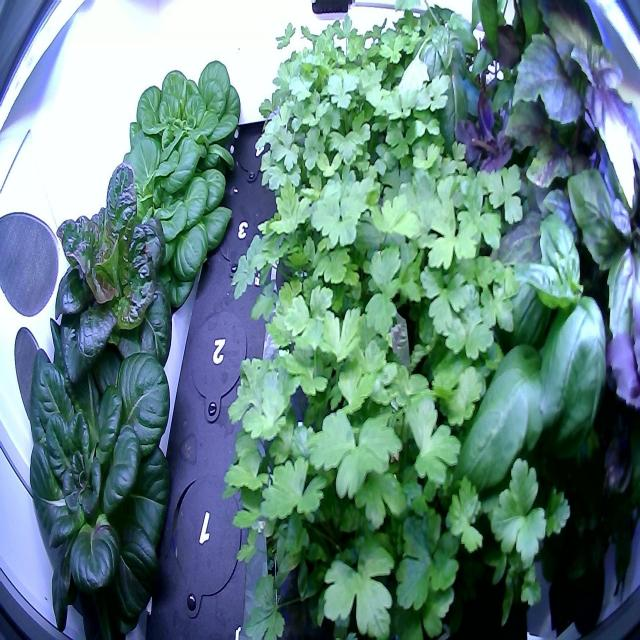Ready: (20, 317, 182, 640), (42, 158, 176, 423), (88, 114, 237, 308), (116, 46, 247, 184)
empty_pod: (168, 463, 250, 611), (184, 303, 250, 429), (205, 183, 269, 283), (232, 112, 284, 186)
